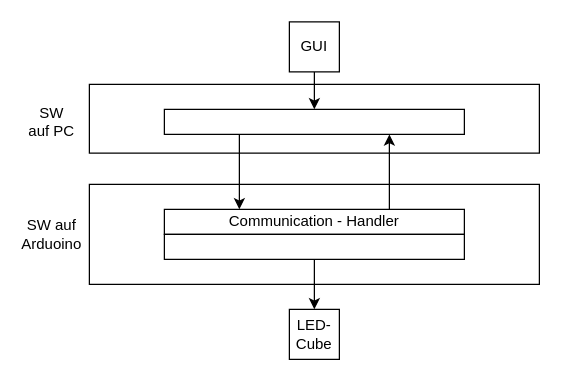
This 561x381 diagram has some shape labels left out. Here are the shapes that lost their labels. From the top down, the centre of each, then its label:
At [313,121]: "GUI - Handler".
At [313,246]: "Ansteuerung LED-Cube".
